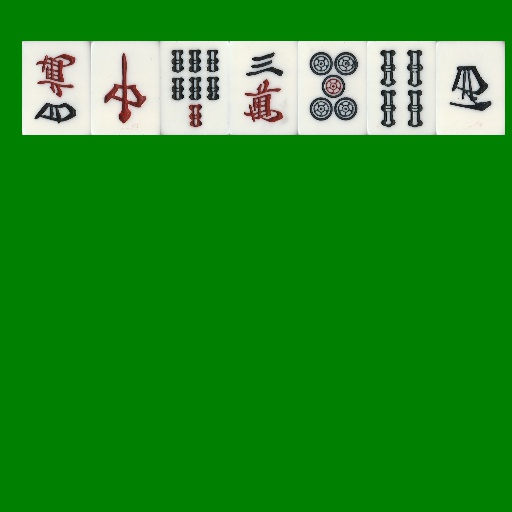3m: (229, 41, 298, 135)
4m: (22, 41, 91, 135)
4s: (367, 41, 436, 135)
5p: (298, 41, 367, 135)
7s: (160, 41, 229, 135)
tyun: (91, 41, 160, 135)
west: (436, 41, 505, 135)
